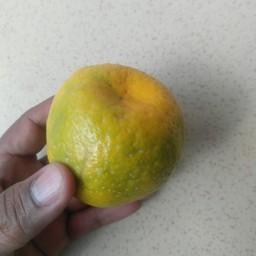Good_orange: (43, 61, 190, 210)
